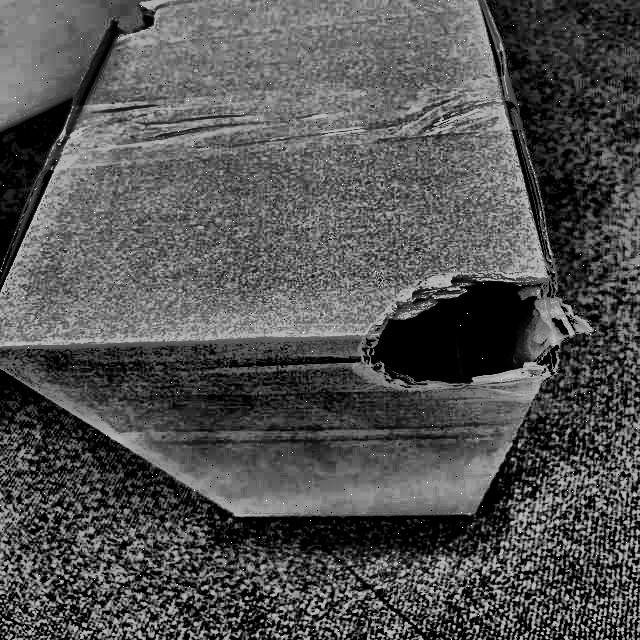box: (1, 0, 608, 522)
hole: (359, 280, 573, 398)
